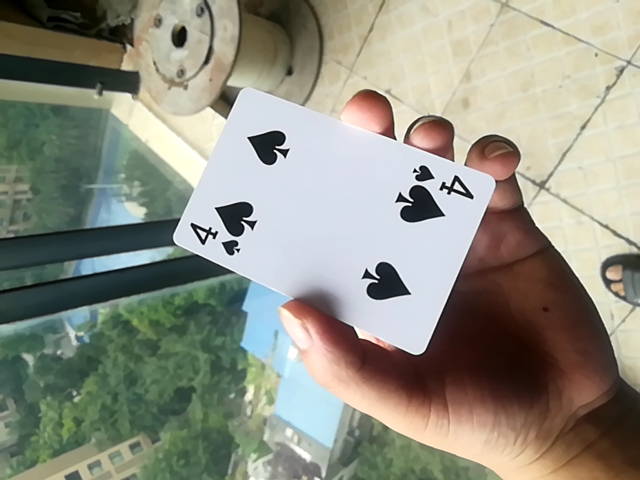ht 4: (166, 91, 498, 358)
